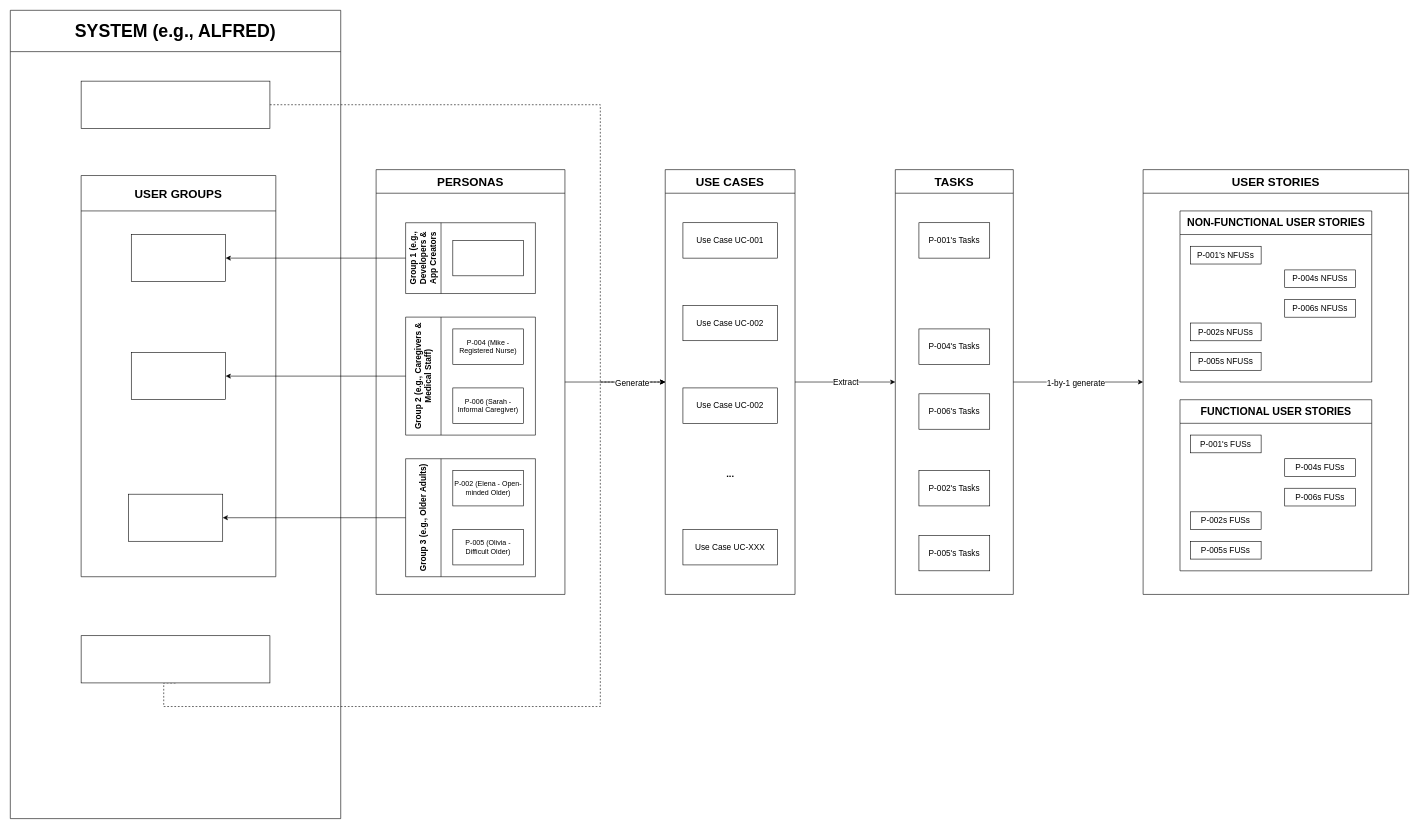
The diagram is 1419 pixels wide and 829 high, and some of its shapes have lost their labels. Each missing label, with the centre of its shape:
P-001 (Daniel - Full-stack developer): pixel 488 258
SYSTEM SUMMARY (e,g., ALFRED): pixel 175 104
USE CASE GUIDELINES (Definition, Structure, ...): pixel 175 659
User group 1's guidelines: pixel 178 258
User group 2's guidelines: pixel 178 376
User group 3 's guidelines: pixel 175 517
